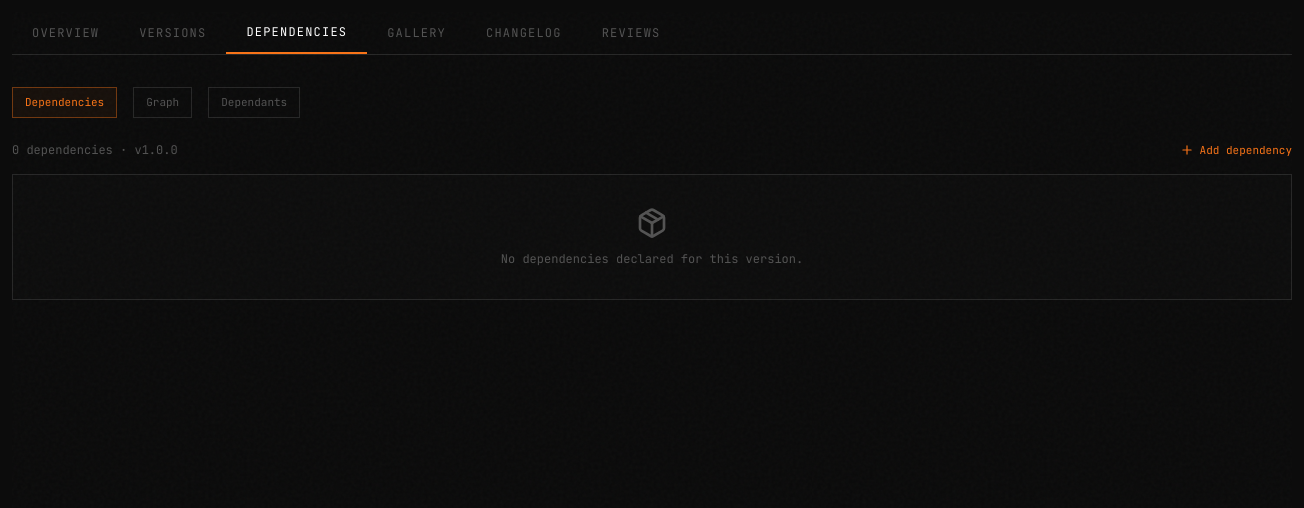
Test: PluginContent › shows conflict alerts
Click the button "Graph": (163, 102) [133,87,192,118]
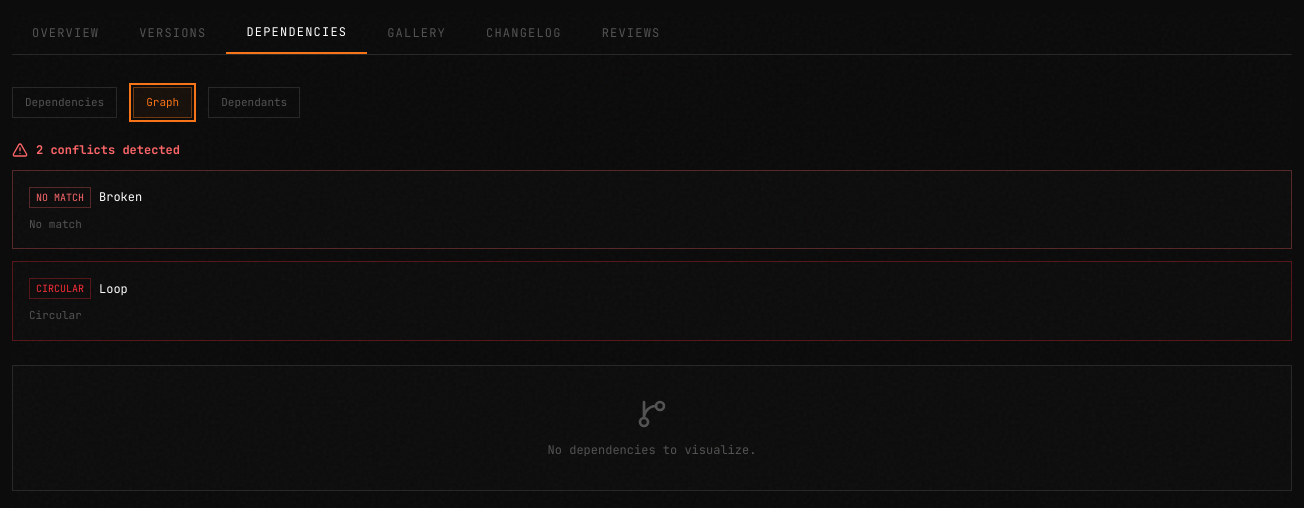
Check: the text "2 conflicts detected" is shown, box [36,142,180,158]
Check: the text "Broken" is shown, box [99,189,142,205]
